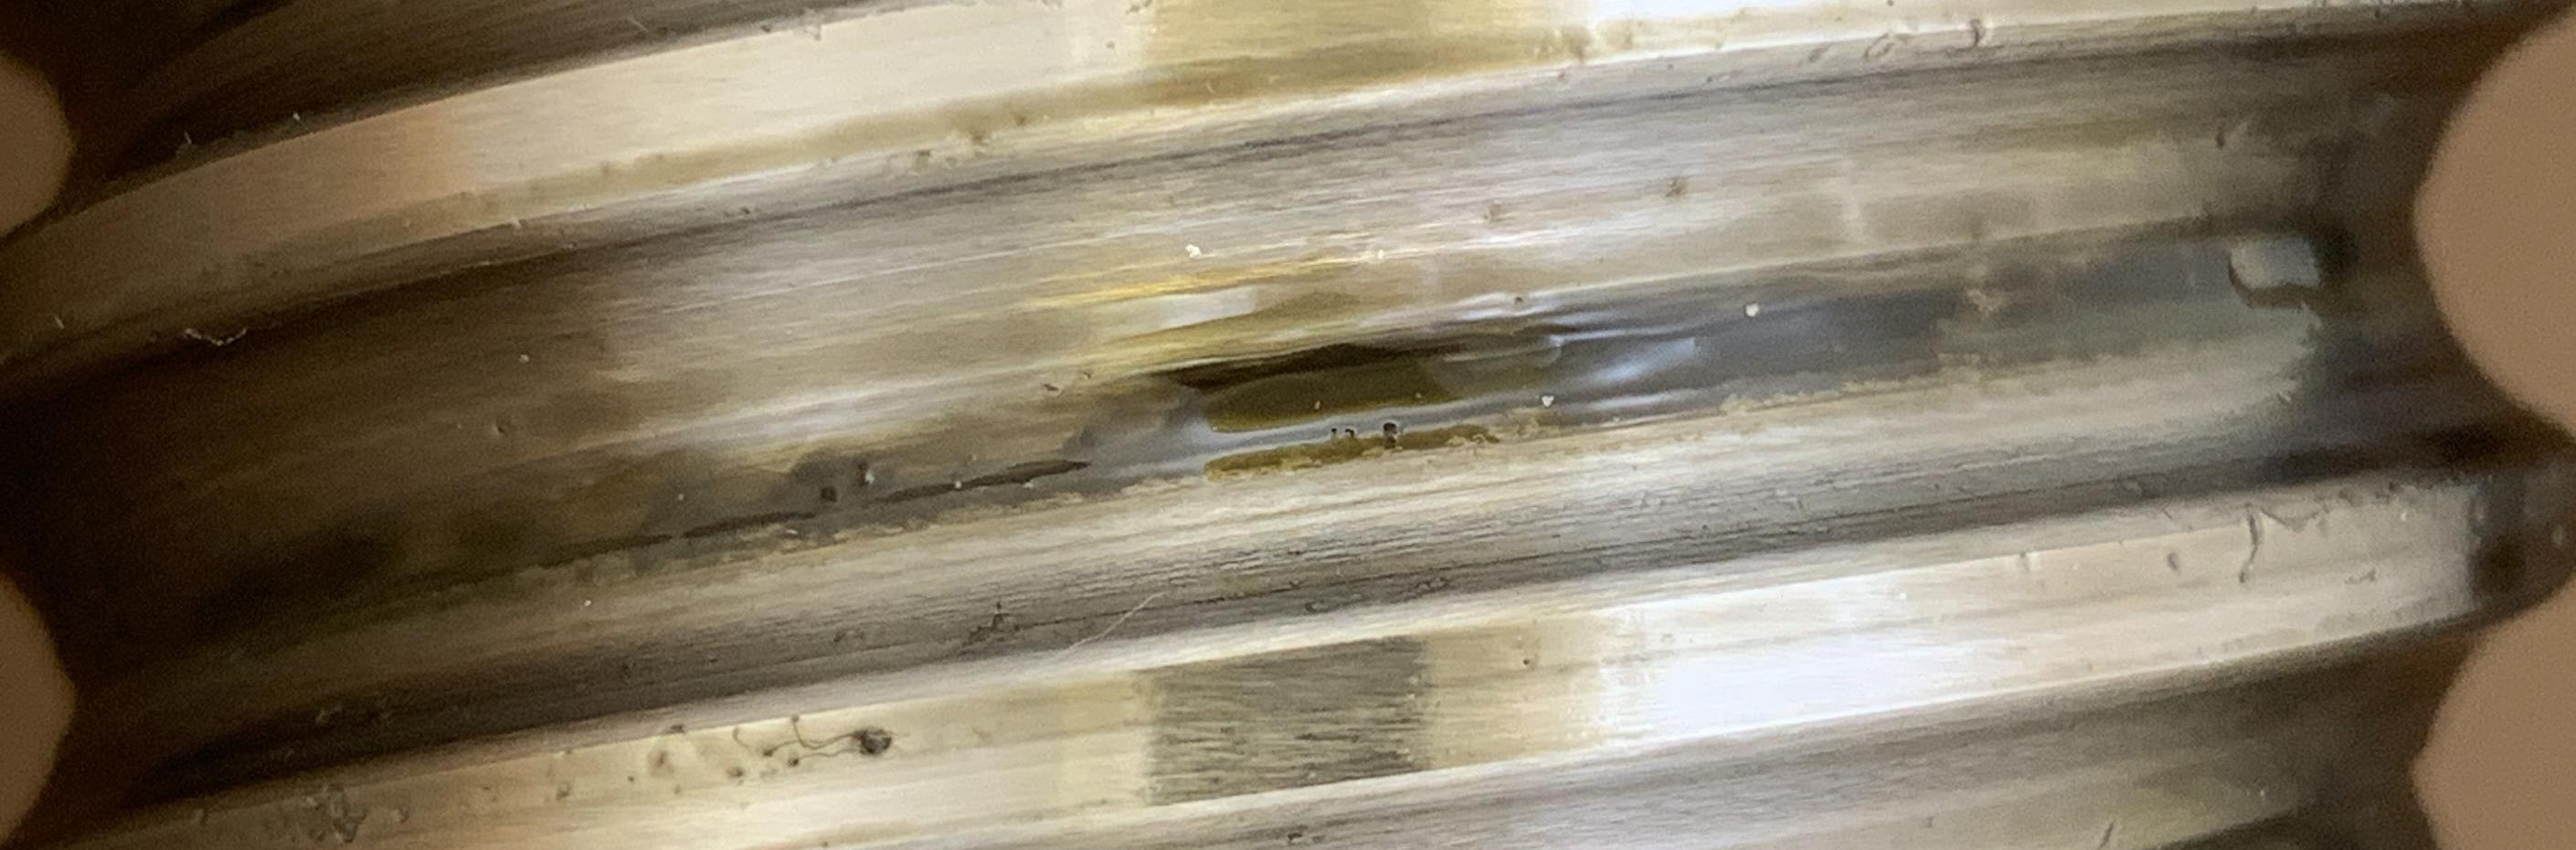pitting: (955, 611, 1014, 655)
